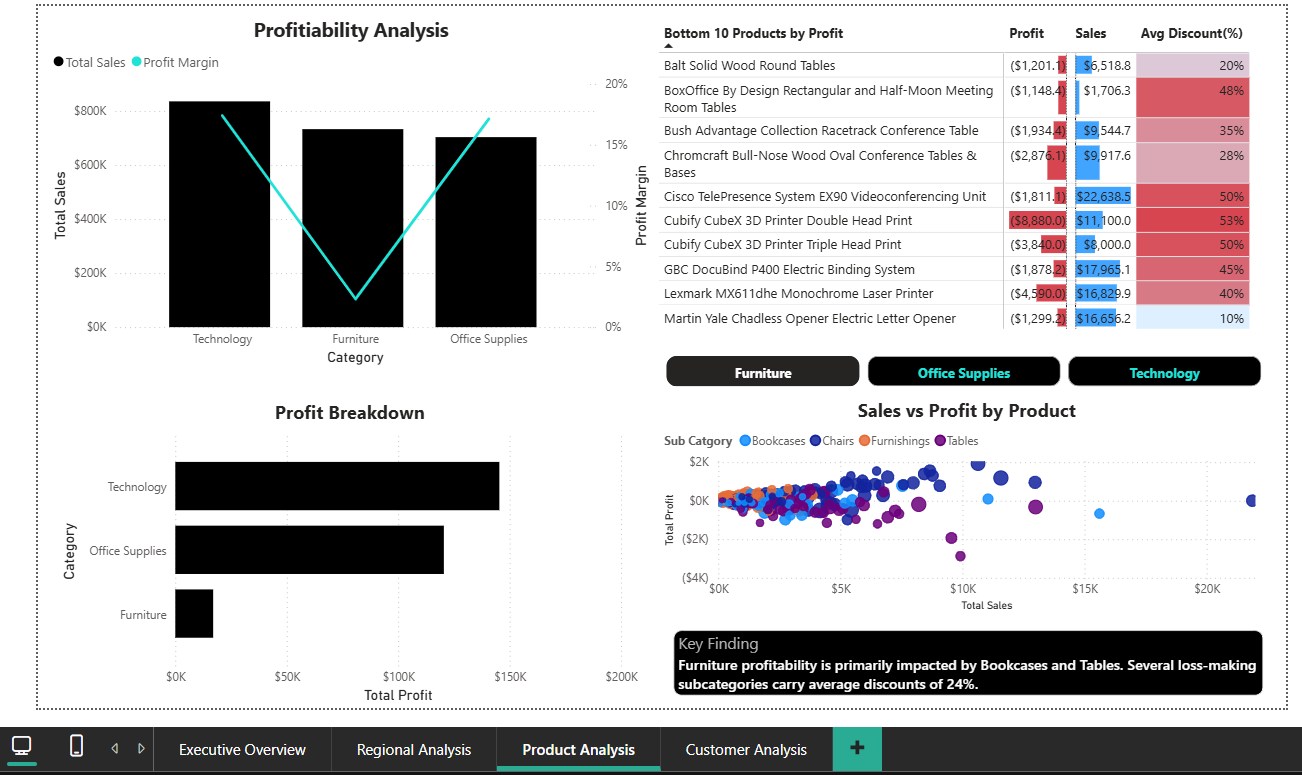

What the dashboard file says about the page in this screenshot:
{"tool":"powerbi","page":{"name":"Product Analysis","canvas":[1280,720],"ordinal":2},"visuals":[{"type":"scatterChart","title":"Sales vs Profit by Product","fields":{"Category":["Products.Product Name"],"Series":["Products.Sub Catgory"],"Size":["MeasuresTable.Total Orders"],"X":["MeasuresTable.Total Sales"],"Y":["MeasuresTable.Total Profit"]},"box":[636.9,401.8,630.7,225.2],"z":0},{"type":"lineClusteredColumnComboChart","title":"Profitiability Analysis","fields":{"Category":["Products.Category"],"Y":["MeasuresTable.Total Sales"],"Y2":["MeasuresTable.Profit Margin"]},"box":[10,10,621.4,362.9],"z":1000},{"type":"pivotTable","fields":{"Rows":["Products.Product Name"],"Values":["MeasuresTable.Total Profit","MeasuresTable.Total Sales","MeasuresTable.Total Discount"]},"box":[631.4,10,621.4,330],"z":2000},{"type":"advancedSlicerVisual","fields":{"Values":["Products.Category"]},"box":[639.4,359.5,620.7,31.1],"z":3000},{"type":"clusteredBarChart","title":"Profit Breakdown","fields":{"Category":["Products.Category","Products.Sub Catgory"],"Y":["MeasuresTable.Total Profit"]},"box":[19,404,601,316],"z":4000},{"type":"cardVisual","fields":{"Data":["MeasuresTable.Dynamic Insight"]},"box":[639.4,628.2,629.4,92.1],"z":5000}]}

Visuals, with their boxes on the page's 1280x720 design canvas (x1, y1, x2, y2). These are canvas units, not pixel positions in the 1302x775 screenshot, which may show the page scaled, cropped or inside an application window:
"Sales vs Profit by Product" scatterChart: Rect(637, 402, 1268, 627)
"Profitiability Analysis" lineClusteredColumnComboChart: Rect(10, 10, 631, 373)
pivotTable - Products.Product Name x MeasuresTable.Total Profit: Rect(631, 10, 1253, 340)
advancedSlicerVisual - Products.Category: Rect(639, 360, 1260, 391)
"Profit Breakdown" clusteredBarChart: Rect(19, 404, 620, 720)
cardVisual - MeasuresTable.Dynamic Insight: Rect(639, 628, 1269, 720)
